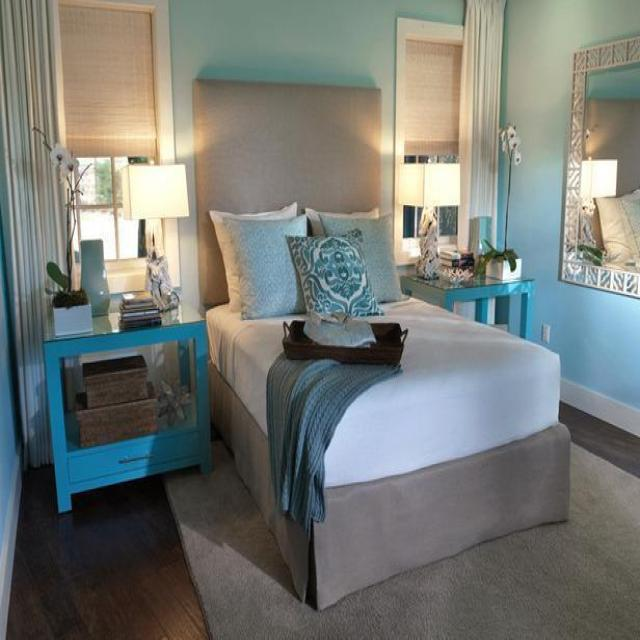bed: (191, 77, 572, 611)
carpet: (161, 431, 639, 638)
cupboard: (42, 295, 212, 514)
curtains: (0, 0, 69, 470), (456, 0, 506, 258)
pillows: (285, 228, 383, 322)
plants: (31, 123, 94, 309)
table: (399, 270, 535, 340)
table-lamp: (120, 161, 189, 310)
windows: (50, 0, 167, 267), (392, 15, 463, 262)
